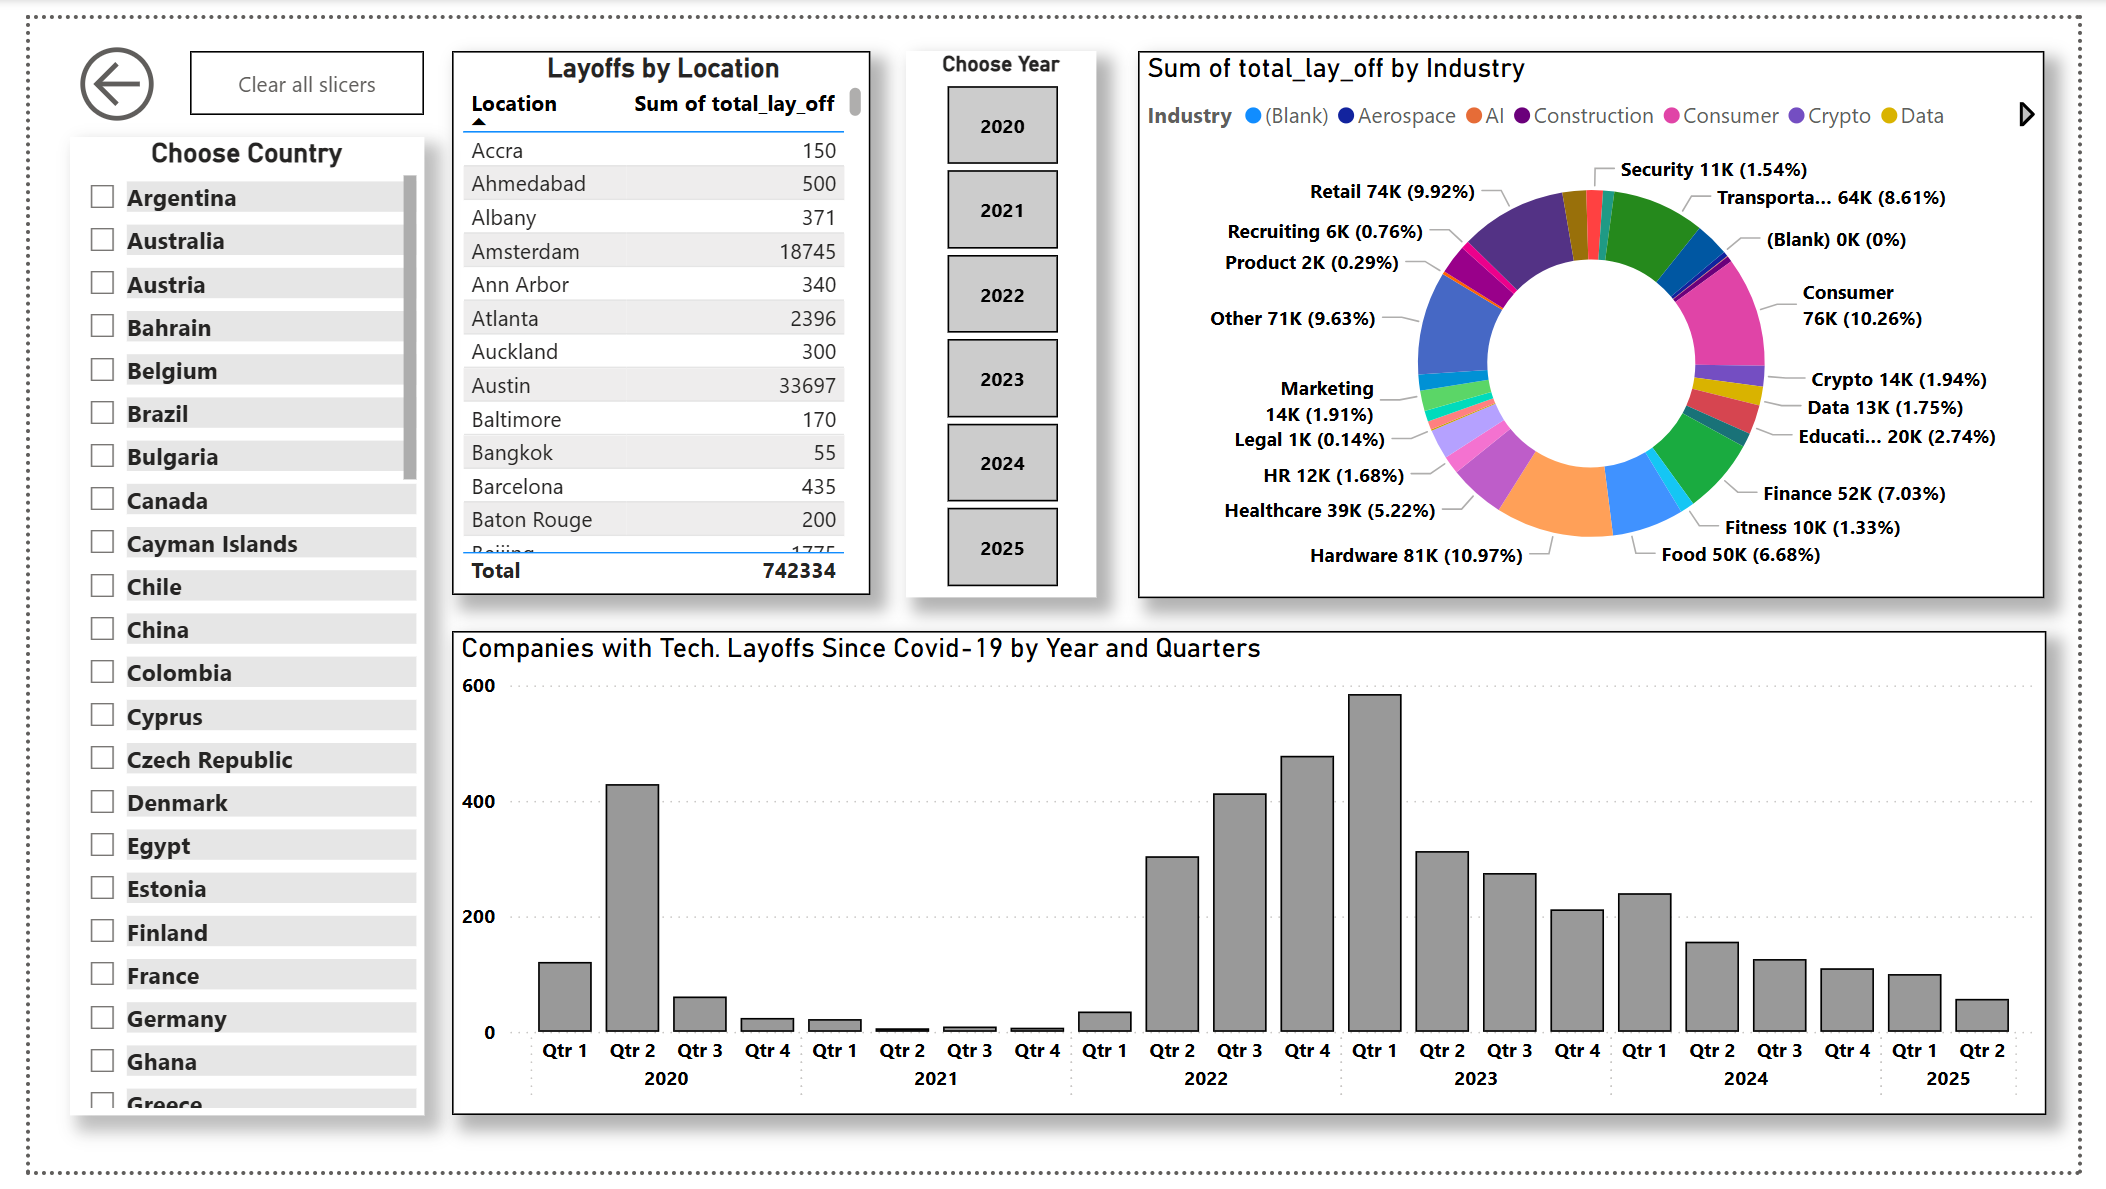

Layout of this report page (visuals, bound fields, positions):
{"tool":"powerbi","page":{"name":"Details","canvas":[1280,720],"ordinal":1},"visuals":[{"type":"columnChart","title":"Companies with Tech. Layoffs  Since Covid-19 by Year and Quarters ","fields":{"Y":["CountNonNull(Tech Layoffs Working.industry)"],"Category":["Tech Layoffs Working.date.Variation.Date Hierarchy.Year","Tech Layoffs Working.date.Variation.Date Hierarchy.Quarter"]},"box":[263.8,382.5,996.2,302.5],"z":0},{"type":"tableEx","title":"Layoffs by Location","fields":{"Values":["Tech Layoffs Working.location","Sum(Tech Layoffs Working.total_laid_off)"]},"box":[263.8,20,261.2,340],"z":1000},{"type":"slicer","title":"Choose Country","fields":{"Values":["Tech Layoffs Working.country"]},"box":[25,73.8,221.2,611.2],"z":2000},{"type":"donutChart","fields":{"Category":["Tech Layoffs Working.industry"],"Y":["Sum(Tech Layoffs Working.total_laid_off)"]},"box":[693.1,19.9,566.6,341.9],"z":3000},{"type":"slicer","title":"Choose Year","fields":{"Values":["Tech Layoffs Working.year"]},"box":[547.5,20,118.8,341.2],"z":4000},{"type":"actionButton","box":[100,20,146.2,40],"z":5000},{"type":"actionButton","box":[25,11.2,66.2,58.8],"z":6000}]}

Visuals, with their boxes in screenshot pixels (x1, y1, x2, y2), scaled from the page's 1280x720 canvas onto the 2106x1189 screenshot:
"Companies with Tech. Layoffs  Since Covid-19 by Year and Quarters " columnChart: {"left": 434, "top": 632, "right": 2073, "bottom": 1131}
"Layoffs by Location" tableEx: {"left": 434, "top": 33, "right": 864, "bottom": 594}
"Choose Country" slicer: {"left": 41, "top": 122, "right": 405, "bottom": 1131}
donutChart - Tech Layoffs Working.industry x Sum(Tech Layoffs Working.total_laid_off): {"left": 1140, "top": 33, "right": 2073, "bottom": 597}
"Choose Year" slicer: {"left": 901, "top": 33, "right": 1096, "bottom": 596}
actionButton: {"left": 165, "top": 33, "right": 405, "bottom": 99}
actionButton: {"left": 41, "top": 18, "right": 150, "bottom": 116}
